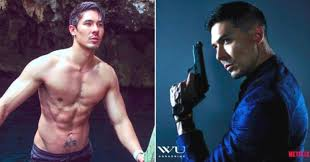asian_male: (54, 1, 115, 52)
